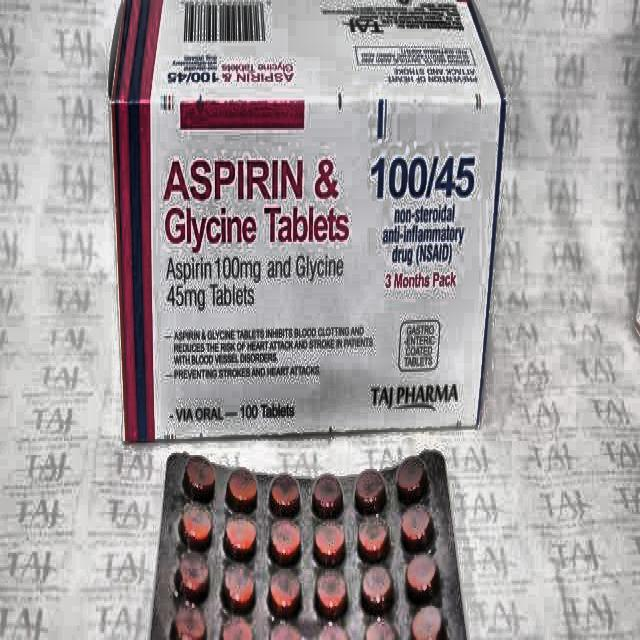Aspirin: (158, 158, 354, 258)
